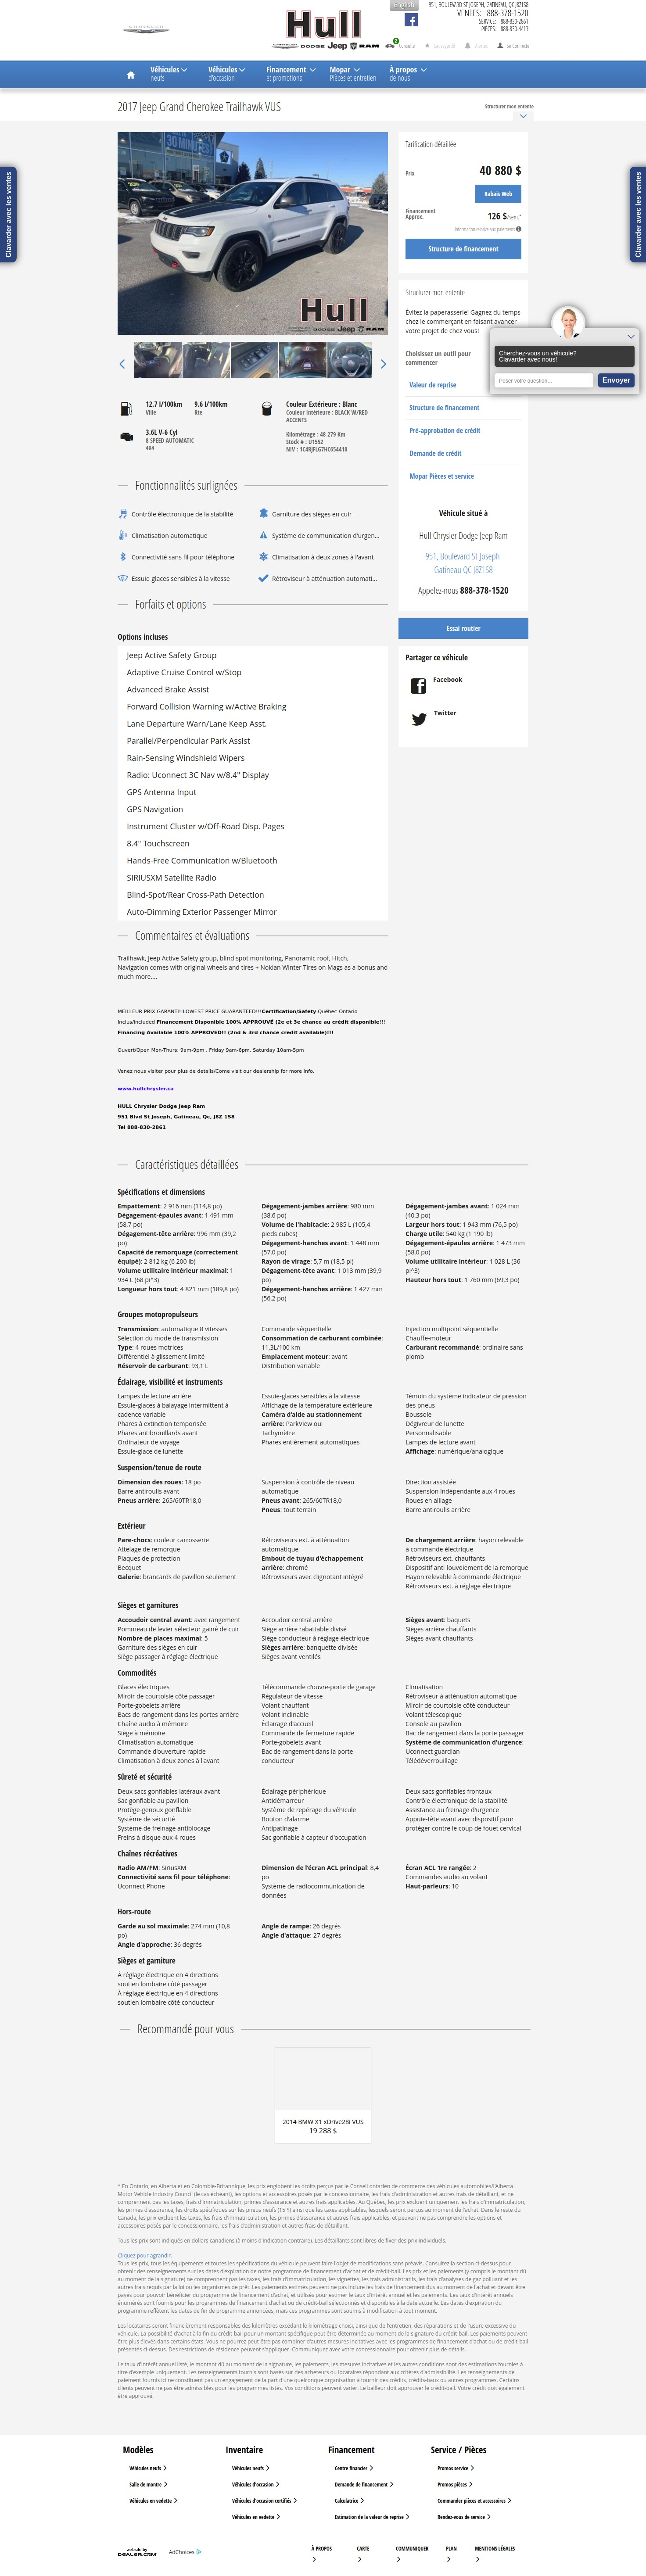car: (380, 358, 386, 370)
